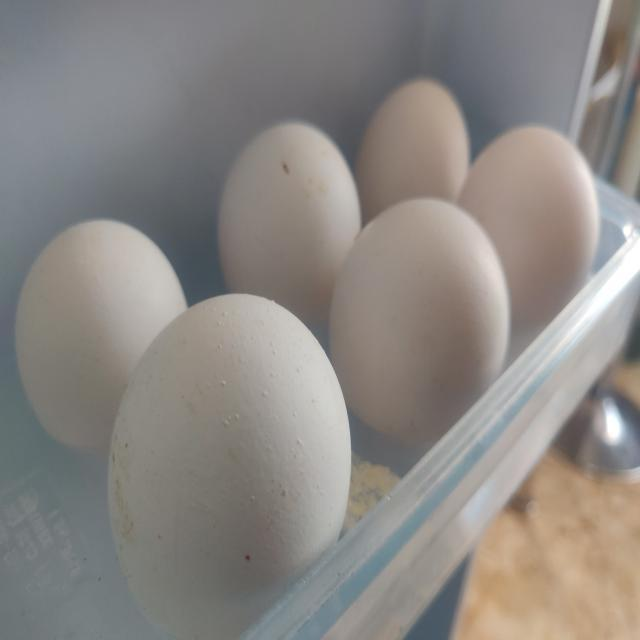Egg: (108, 294, 351, 639), (329, 198, 511, 444), (15, 219, 186, 448), (218, 121, 361, 322), (459, 126, 600, 323), (356, 78, 470, 222)
